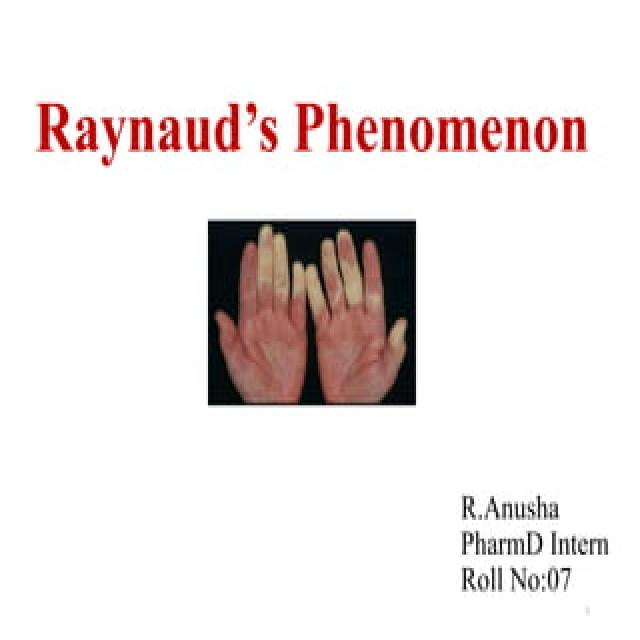raynauds: (258, 230, 290, 290), (336, 228, 358, 310), (325, 239, 342, 306), (390, 321, 410, 361), (308, 266, 319, 328), (294, 267, 304, 305)
